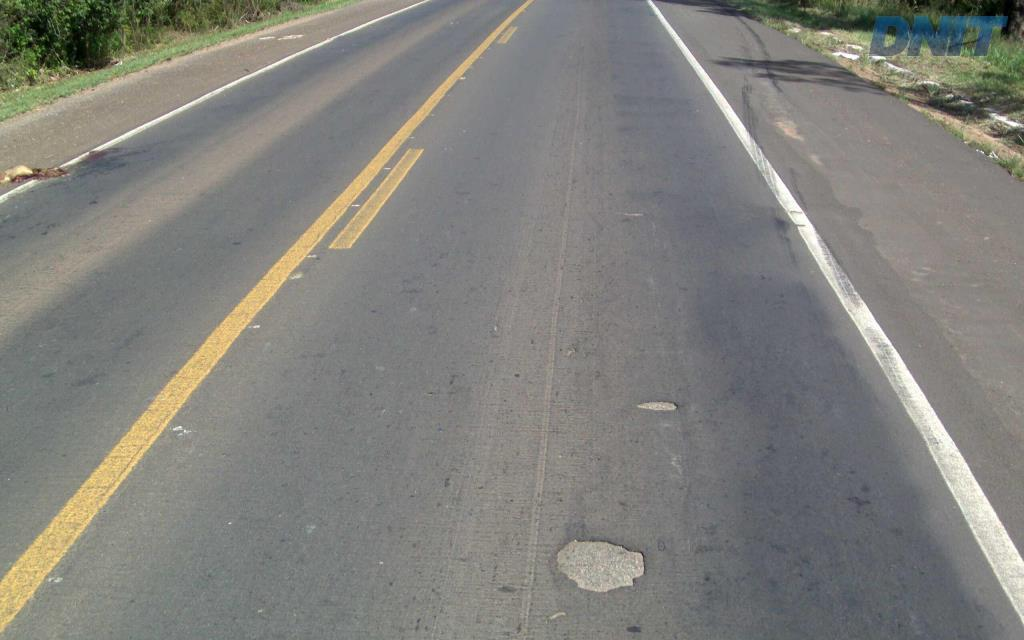pothole: (544, 528, 660, 602), (631, 394, 688, 414)
